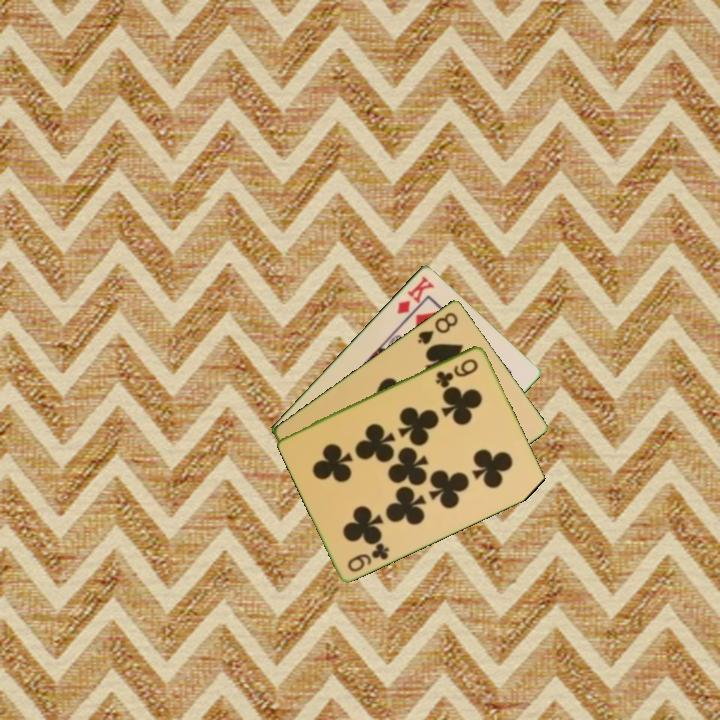8s: (414, 308, 461, 347)
9c: (344, 539, 392, 575), (432, 355, 481, 389)
Kd: (393, 272, 437, 317)
